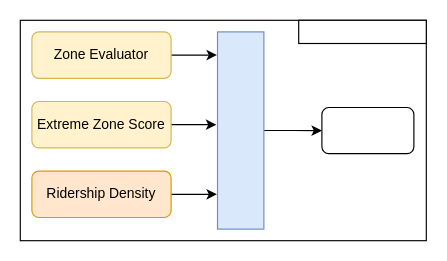
Image size: 447x261. Some labels were removed from this diagram. Here are the shapes that lost their labels. From the top down, the centre of each, then its label:
At point (362, 31): "Fitness Function".
At point (367, 130): "Fitness Score".
